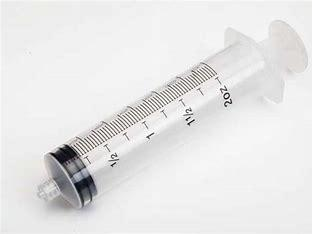Syringe: (19, 17, 312, 215)
